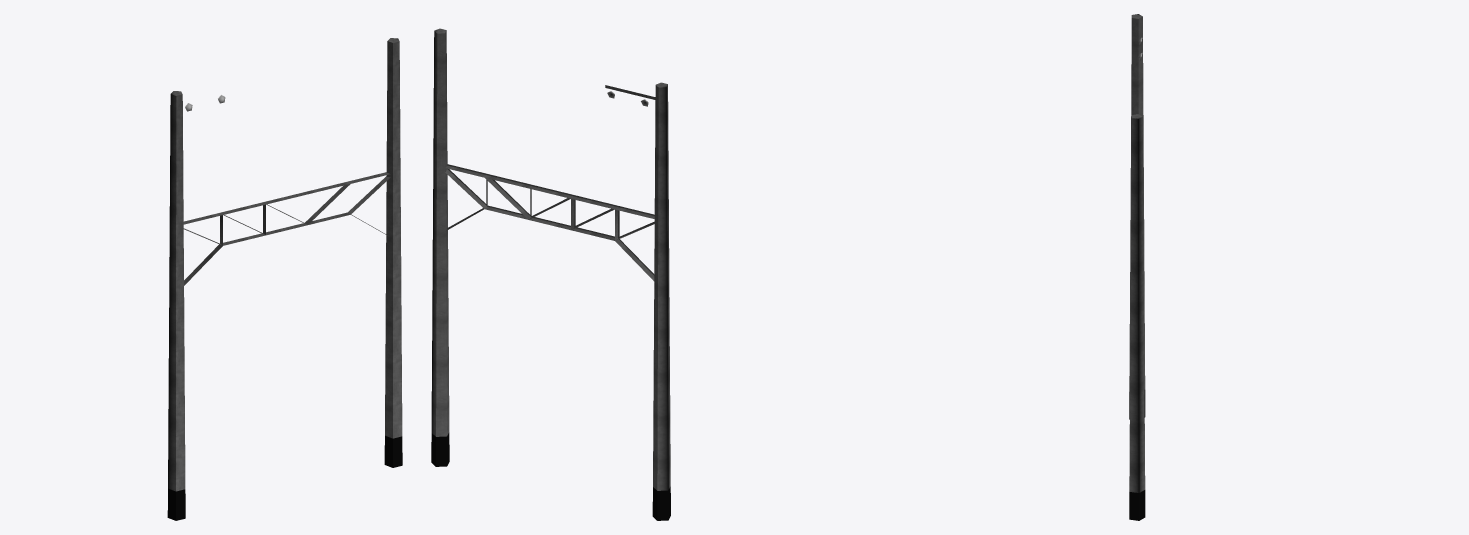
File: KASENCHU_TOB_1RAIL.glb
The picture shows the model from 3 angles, left to right: view 1: azimuth 30°, elevation 25°; view 2: azimuth 150°, elevation 25°; view 3: azimuth 270°, elevation 25°; orthographic projection. The views are drawn at different scales.
Visible parts, largest first — view 1: obj18; view 2: obj18; view 3: obj18.
Part boxes in pixels (x1,y1,x2,y2): obj18: (167,38,402,520); obj18: (431,28,670,520); obj18: (1129,14,1145,520).
Bounding box in the file's own units: 20.79 × 36.19 × 50.08.
Materials: 4 (4 with a texture image).
